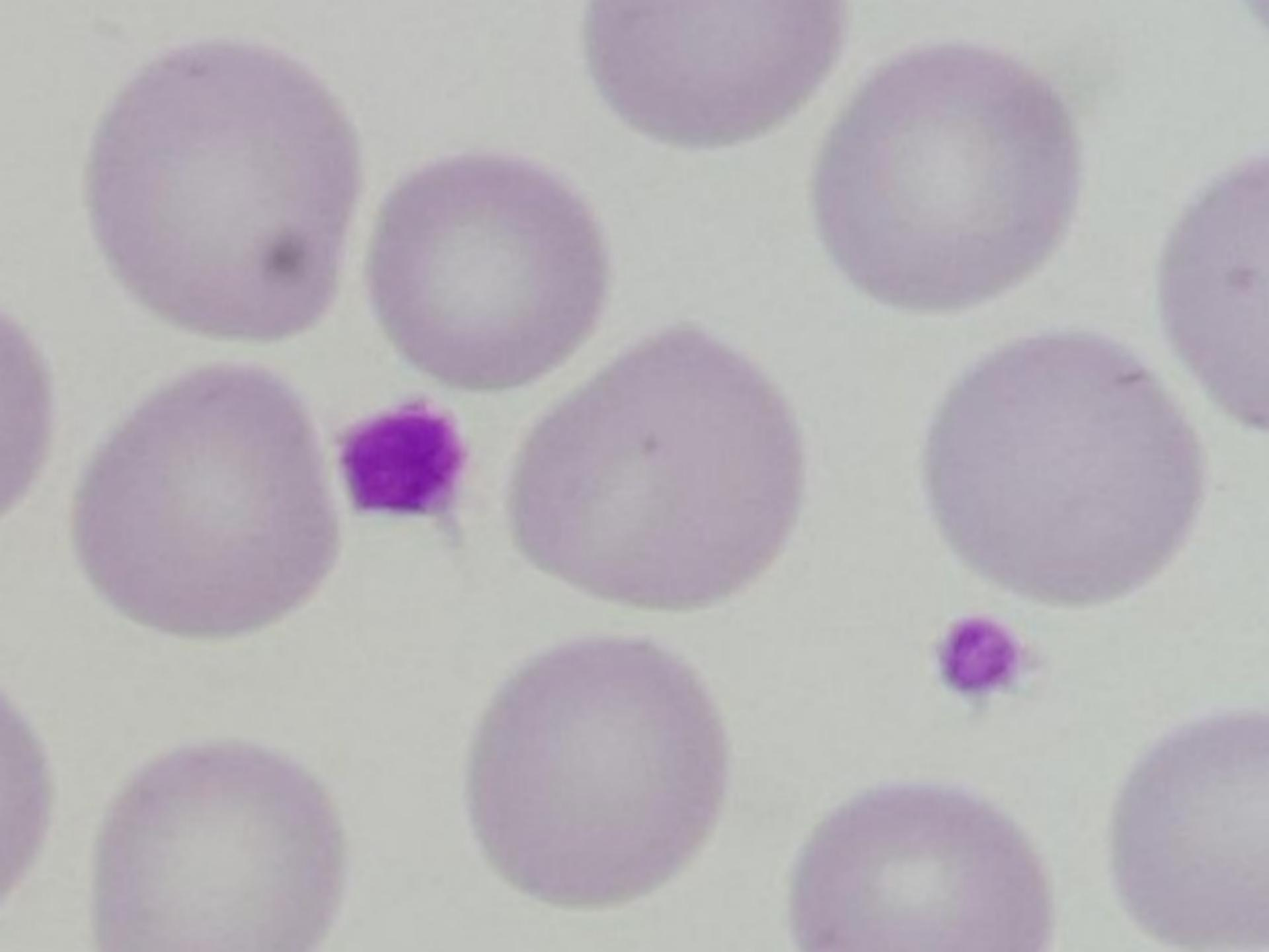Uninfected: (512, 326, 803, 610), (91, 45, 359, 345), (930, 331, 1195, 606), (73, 367, 337, 636), (468, 635, 726, 908), (821, 43, 1082, 312), (370, 156, 606, 388), (97, 745, 343, 952), (790, 787, 1055, 952), (580, 0, 843, 153), (1114, 709, 1269, 952)
